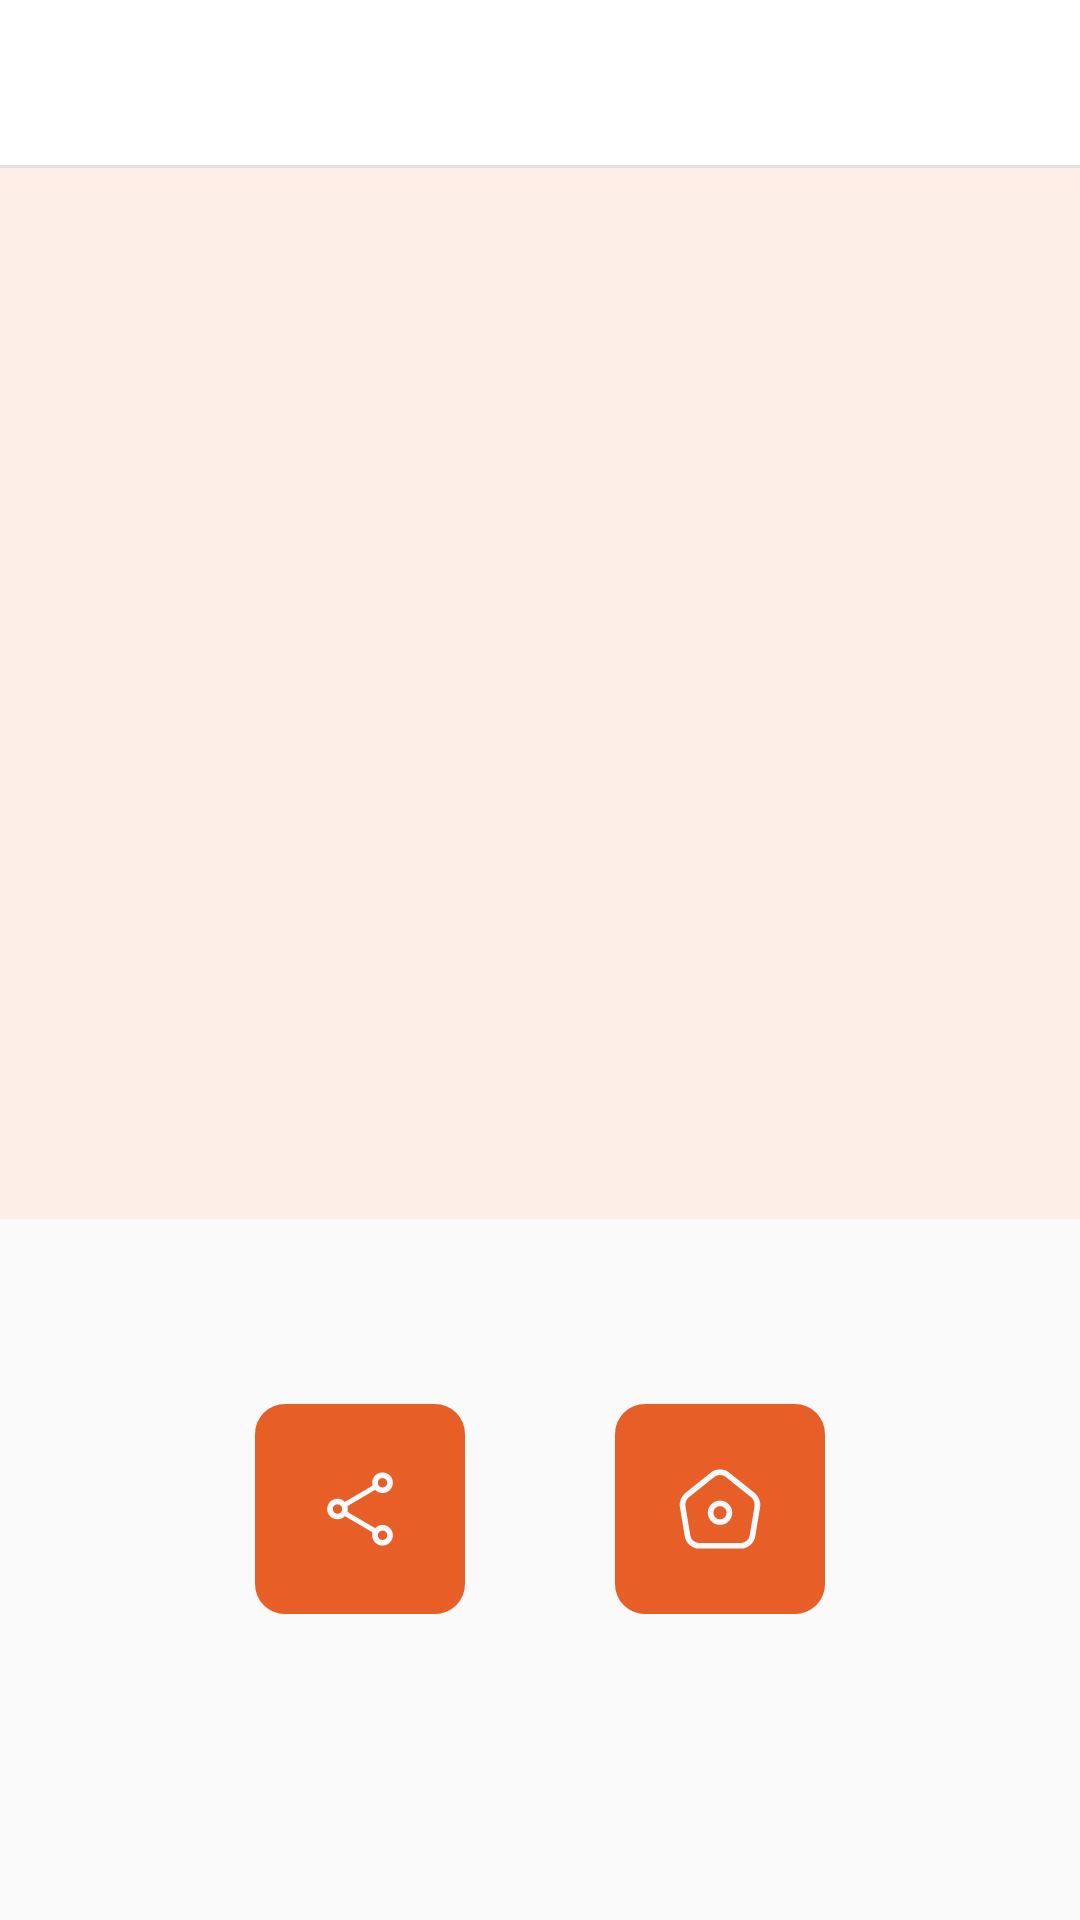

Where to tap for icons on this 1080w x 1920h app screen, as [x,y]:
home item: [720,1509]
share: [360,1509]
